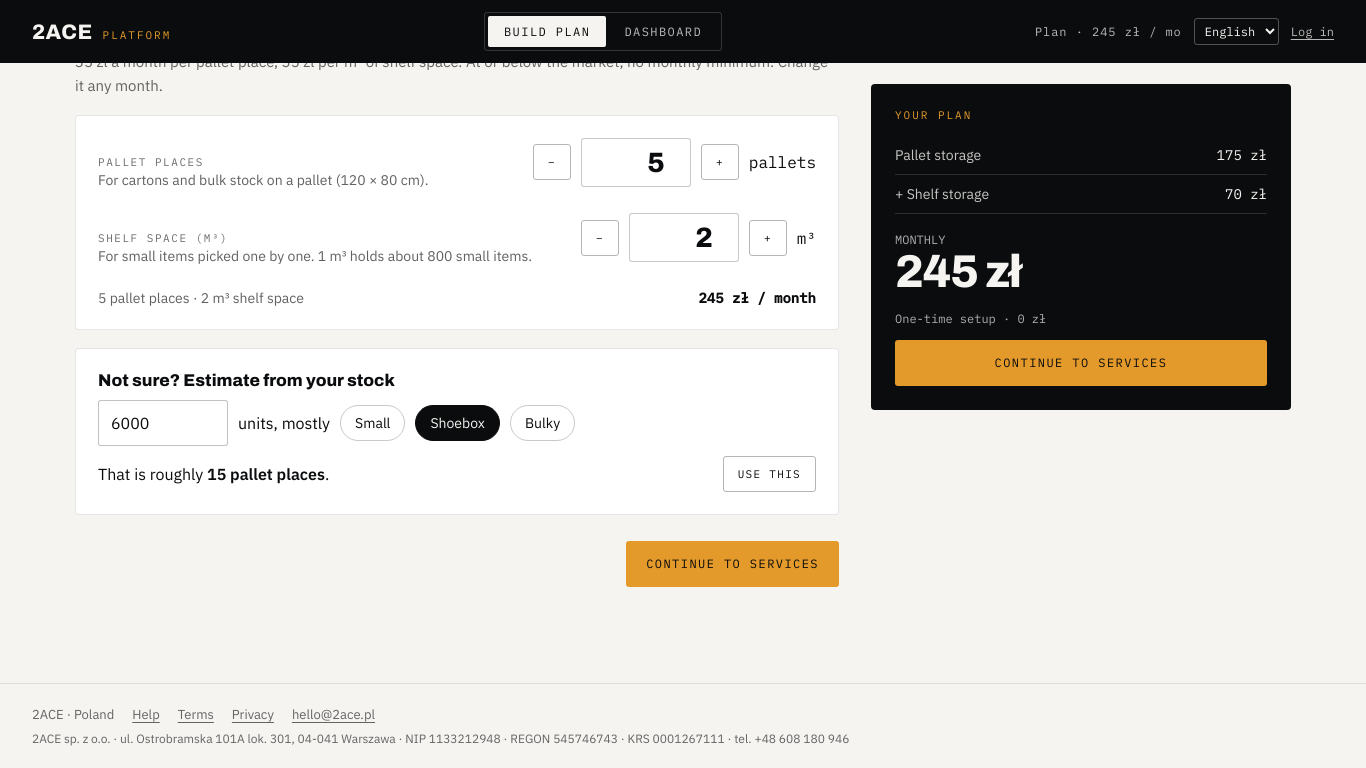
Test: plan builder › the estimator suggests pallets for boxed goods and shelves for small items
(page scrolled)
Click the button "Use this": (769, 474) top-left (723, 456), bottom-right (816, 492)
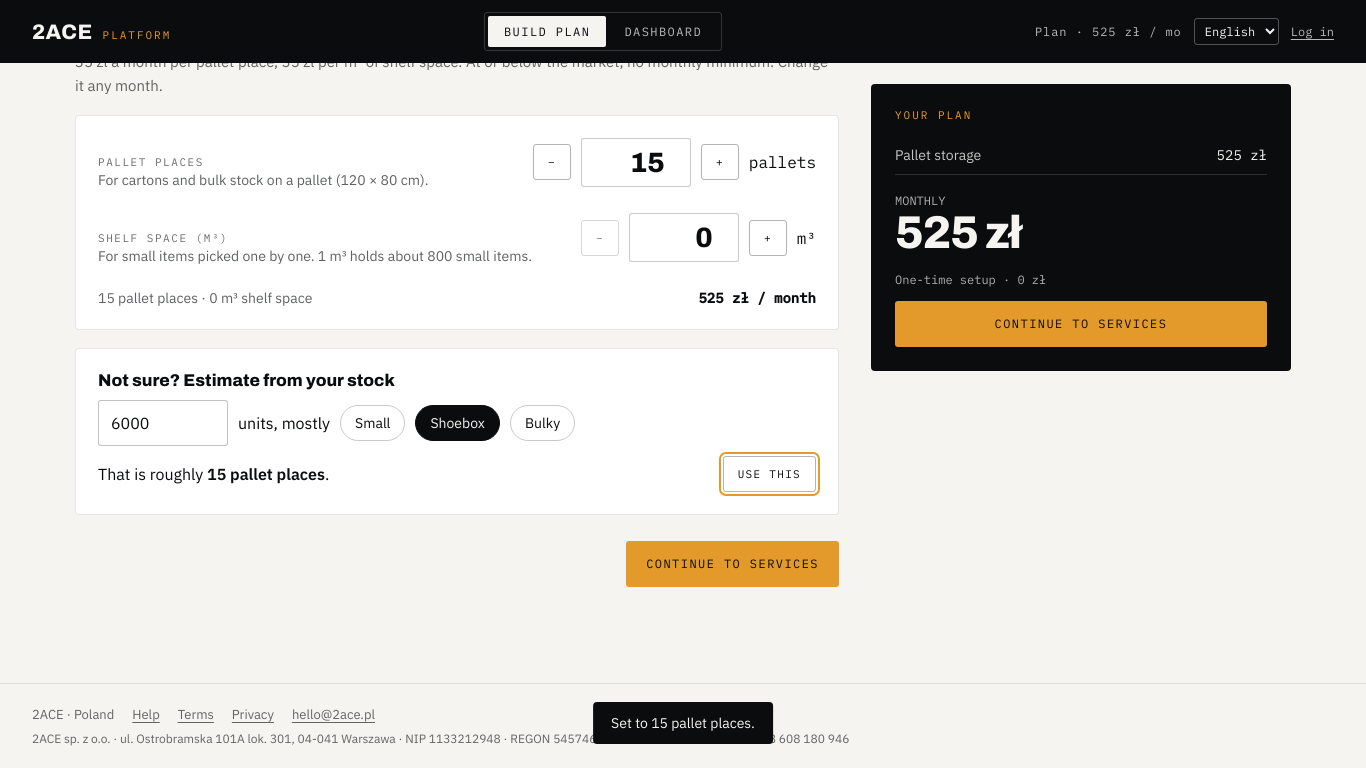
Check: the text "525 zł" in the row of "Pallet storage" is shown, box top-left (1217, 146), bottom-right (1267, 164)
Check: the text "Set to 15 pallet places." is shown, box top-left (593, 702), bottom-right (773, 744)
Click the button "Small": (373, 423) top-left (340, 405), bottom-right (405, 441)
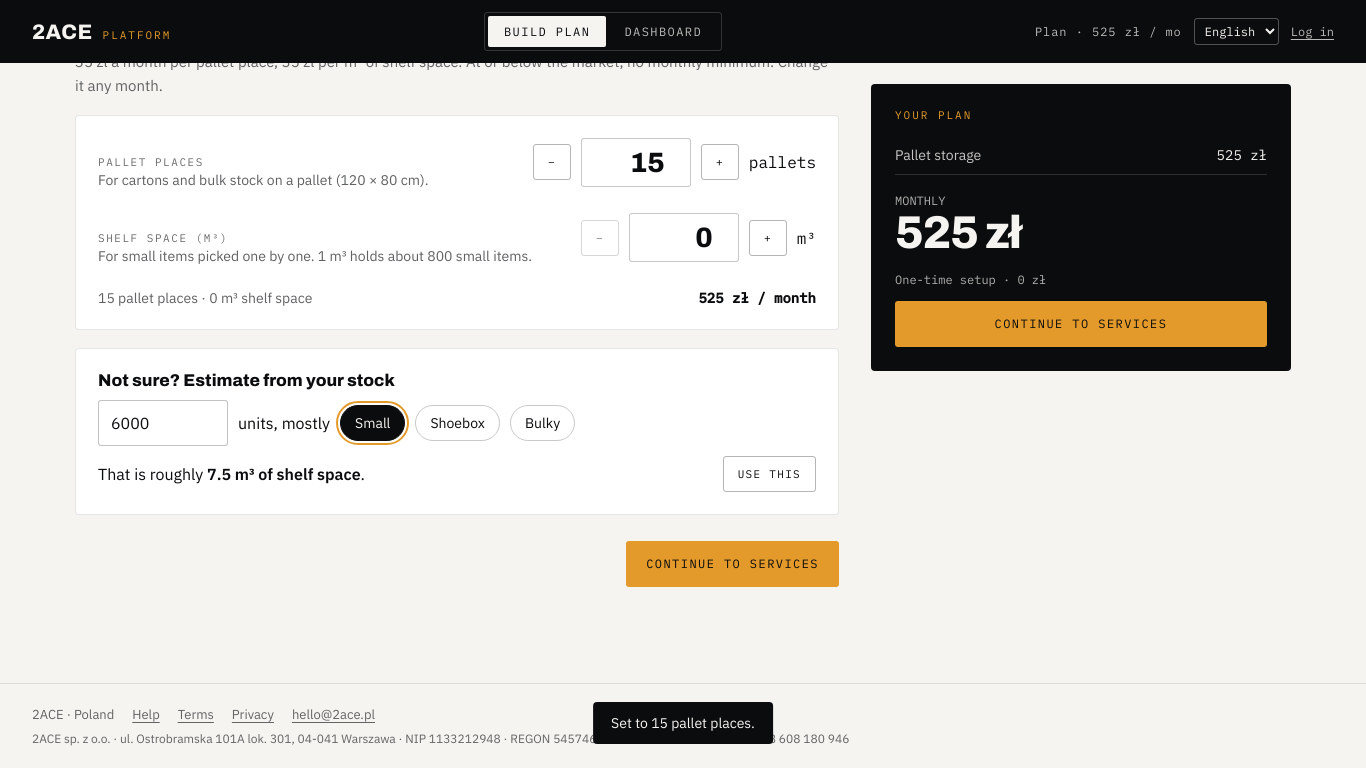
Check: the text "roughly 7.5 m³ of shelf space" is shown, box top-left (98, 464), bottom-right (365, 484)
